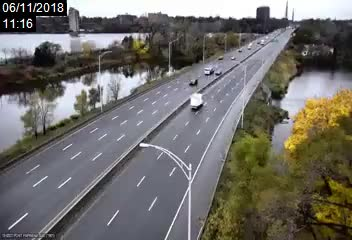personal_car: (189, 91, 205, 111), (188, 77, 198, 88), (203, 65, 214, 75), (214, 69, 223, 78)
